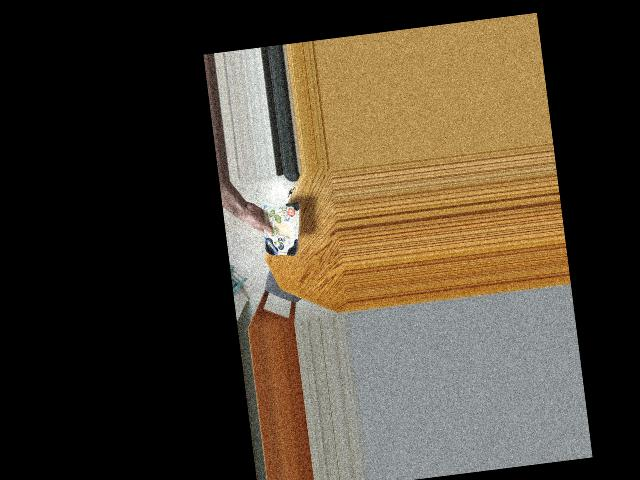cheese: (254, 200, 304, 259)
